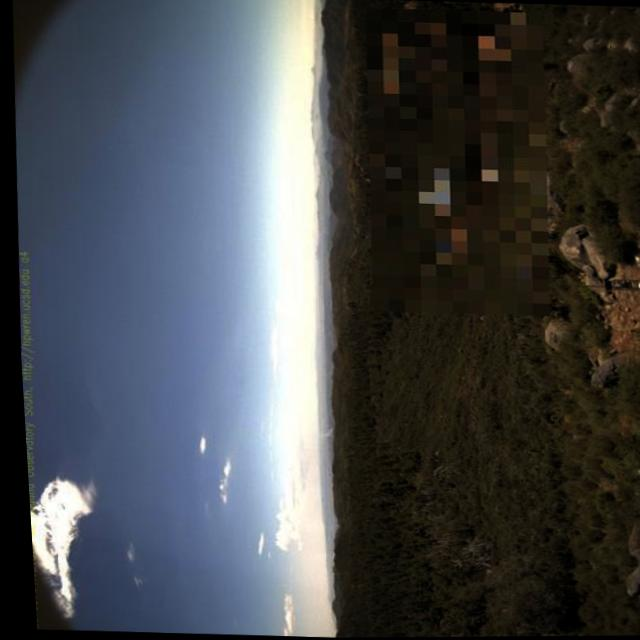smoke: (295, 425, 326, 461)
